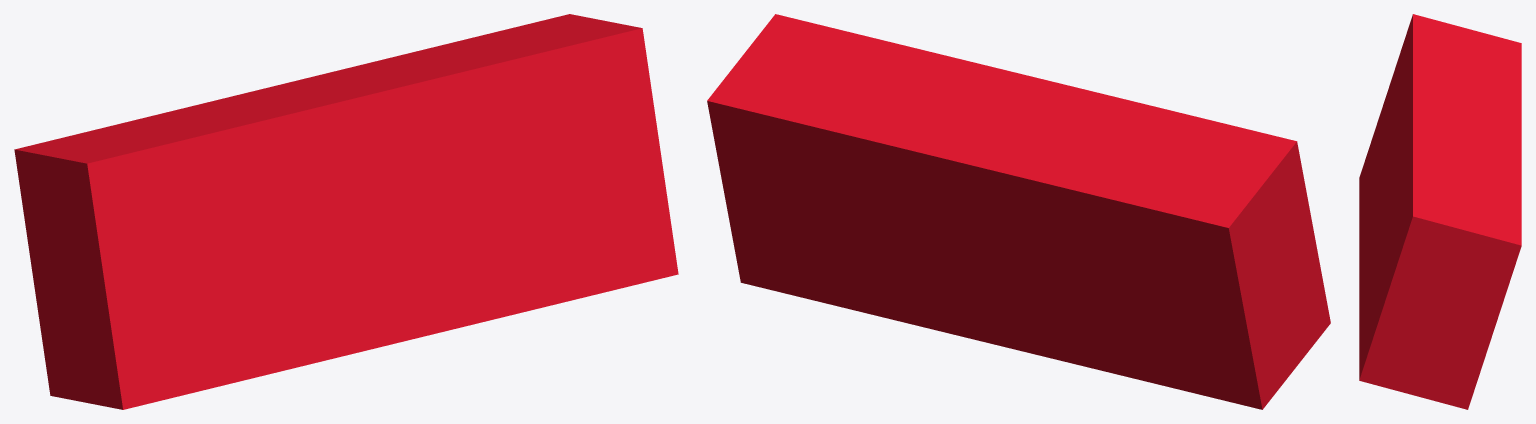
The model's file is boton10.FBX.
3 views of the same model, side by side, from view 1: azimuth 30°, elevation 25°; view 2: azimuth 150°, elevation 25°; view 3: azimuth 270°, elevation 25° (orthographic). The views are drawn at different scales.
Parts seen in each view (by area): view 1: boton10; view 2: boton10; view 3: boton10.
Part boxes in pixels (x1,y1,x2,y2): boton10: [14, 14, 678, 409]; boton10: [707, 14, 1330, 409]; boton10: [1359, 14, 1521, 409].
Bounding box in the file's own units: 1.73 × 0.7714 × 0.5871.
